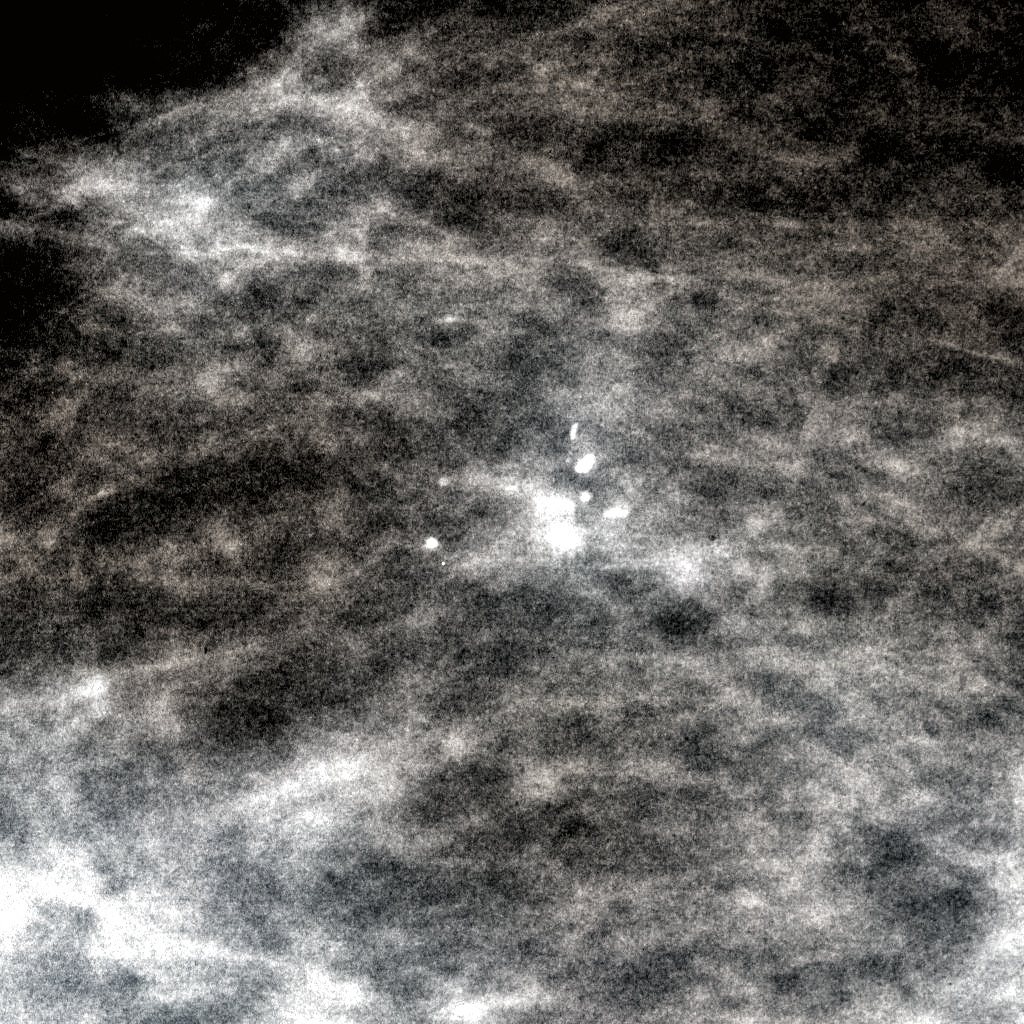tumor: (369, 404, 655, 620)
